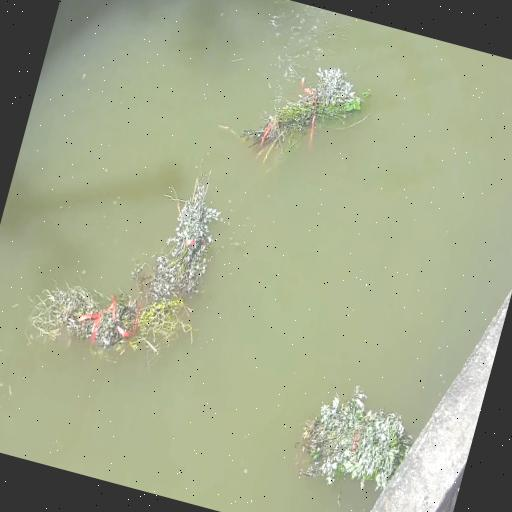twig: (226, 44, 370, 182), (24, 262, 192, 378), (288, 372, 420, 505), (138, 156, 234, 306)
